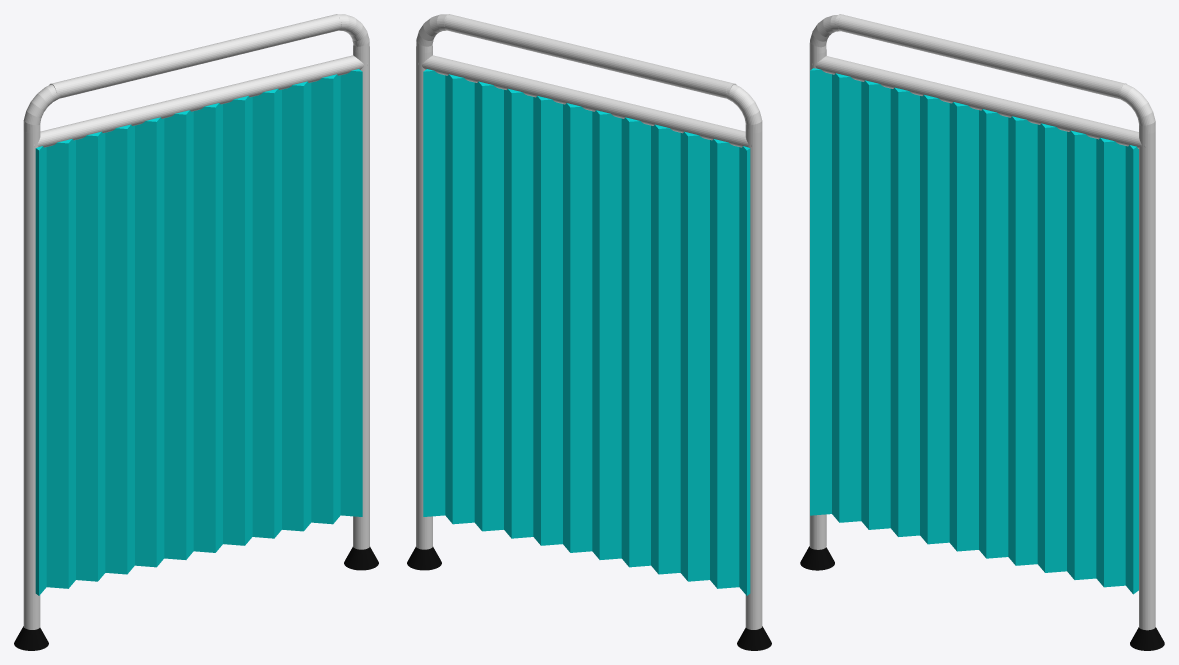
Rendered from Partition 1.fbx.
The picture shows the model from 3 angles, left to right: view 1: azimuth 30°, elevation 25°; view 2: azimuth 150°, elevation 25°; view 3: azimuth 330°, elevation 25°; orthographic projection.
Parts seen in each view (by area): view 1: Cube.001, 円柱.006, 円柱.008, 円柱.007, 円柱.005, 円錐, 円錐.001; view 2: Cube.001, 円柱.006, 円柱.008, 円柱.007, 円柱.005, 円錐, 円錐.001; view 3: Cube.001, 円柱.005, 円柱.008, 円柱.007, 円柱.006, 円錐, 円錐.001.
Boxes of the visible parts, <box> form: Cube.001: <box>35,69,362,595</box>; 円柱.006: <box>23,84,60,629</box>; 円柱.008: <box>34,55,367,147</box>; 円柱.007: <box>49,14,341,98</box>; 円柱.005: <box>338,14,369,549</box>; 円錐: <box>14,626,48,650</box>; 円錐.001: <box>344,547,378,570</box>; Cube.001: <box>423,69,750,595</box>; 円柱.006: <box>725,84,762,629</box>; 円柱.008: <box>418,55,751,147</box>; 円柱.007: <box>444,14,736,98</box>; 円柱.005: <box>416,14,447,549</box>; 円錐: <box>737,626,771,650</box>; 円錐.001: <box>407,547,441,570</box>; Cube.001: <box>810,68,1138,594</box>; 円柱.005: <box>1119,84,1155,630</box>; 円柱.008: <box>812,56,1145,148</box>; 円柱.007: <box>834,14,1126,99</box>; 円柱.006: <box>809,15,840,549</box>; 円錐: <box>800,546,834,570</box>; 円錐.001: <box>1130,627,1164,650</box>.
Size of the model in its own units: 2204 by 3240 by 185.
